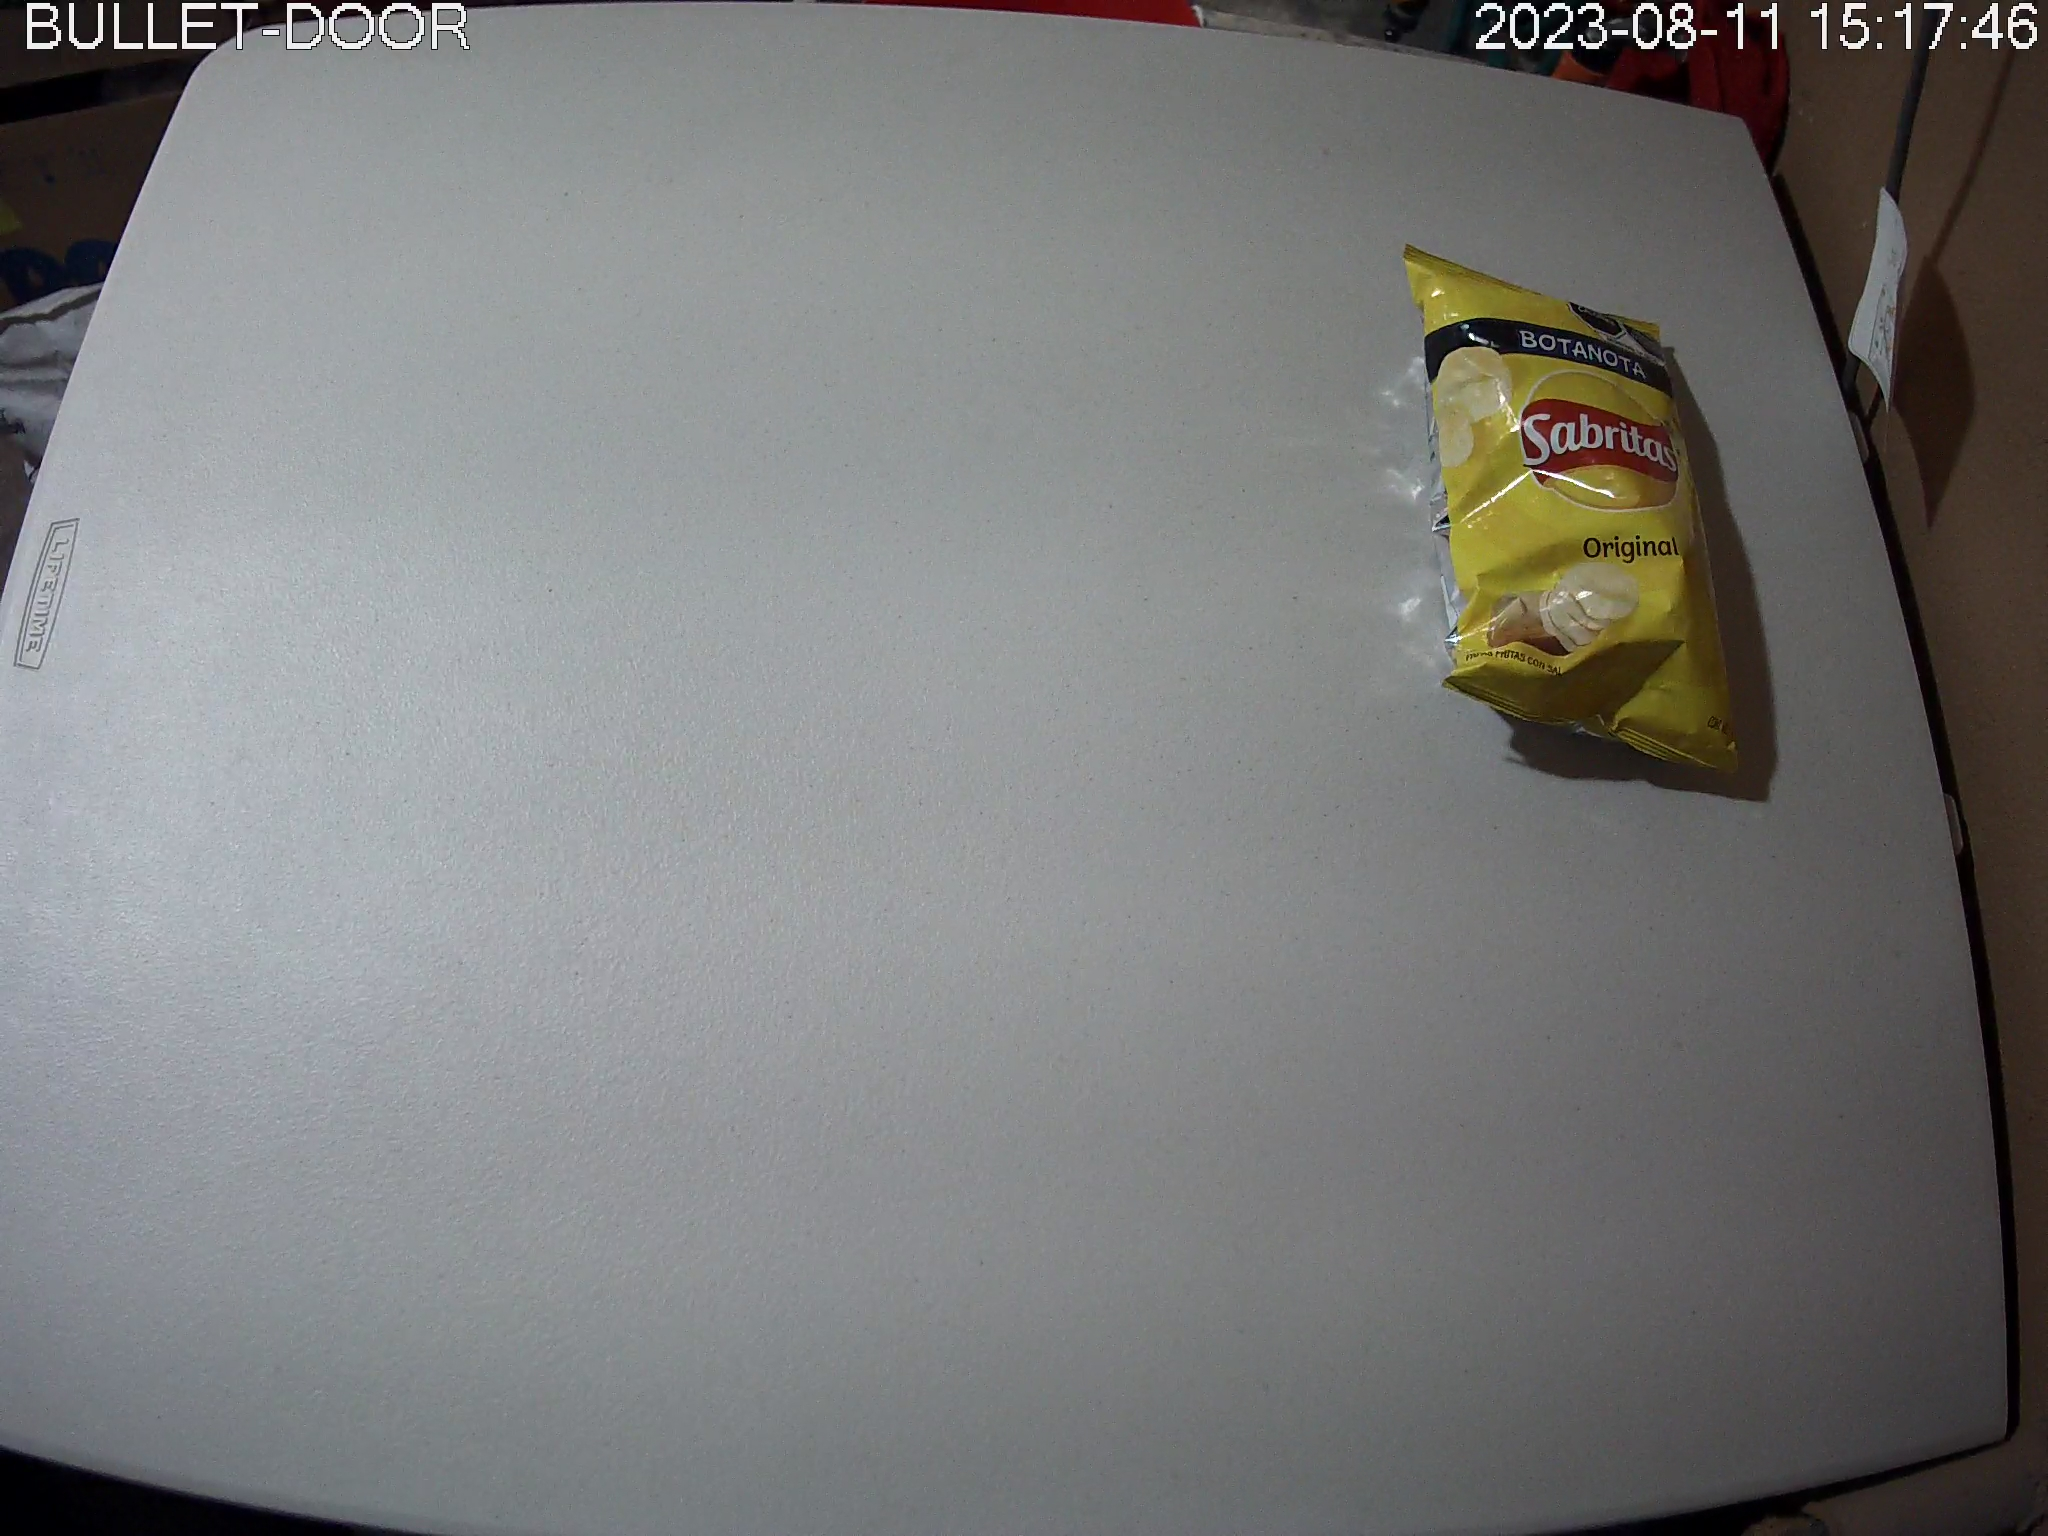Sabritas_64_F: (1400, 244, 1738, 778)
